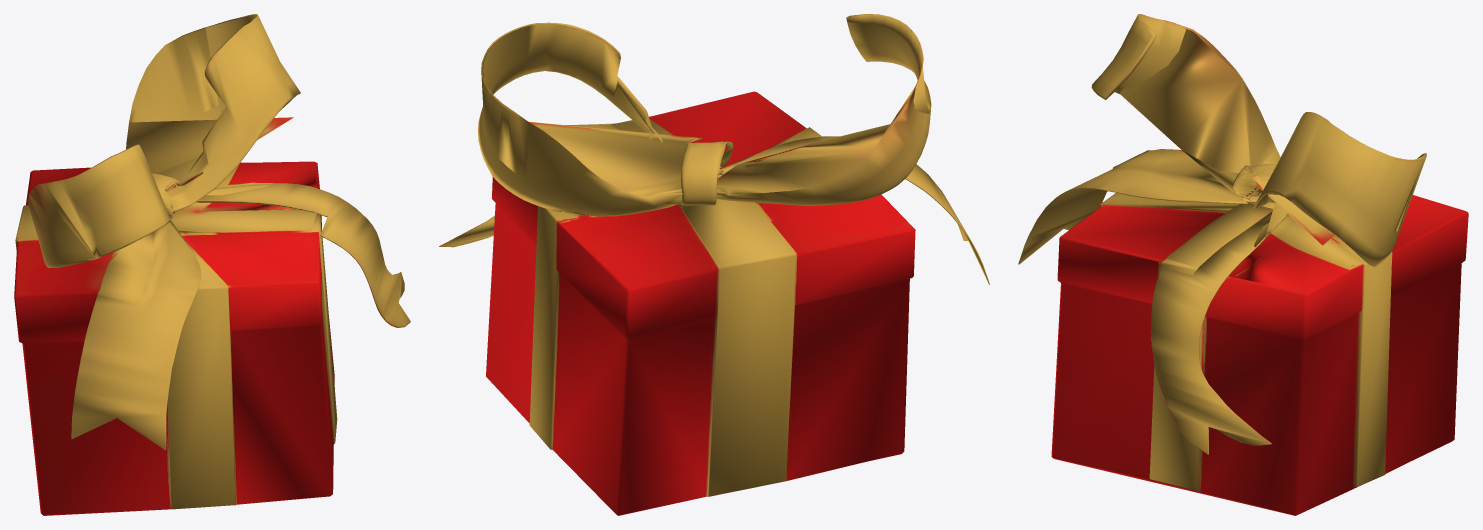
3 views of the same model, side by side, from view 1: azimuth 30°, elevation 25°; view 2: azimuth 150°, elevation 25°; view 3: azimuth 270°, elevation 25° (orthographic). The views are drawn at different scales.
Parts seen in each view (by area): view 1: material; view 2: material; view 3: material.
Boxes of the visible parts, x1,y1,x2,y2 form: material: [14, 14, 410, 515]; material: [439, 14, 989, 515]; material: [1018, 14, 1468, 515].
Size of the model in its own units: 190 by 165 by 175.
1 material, 1 textured.
